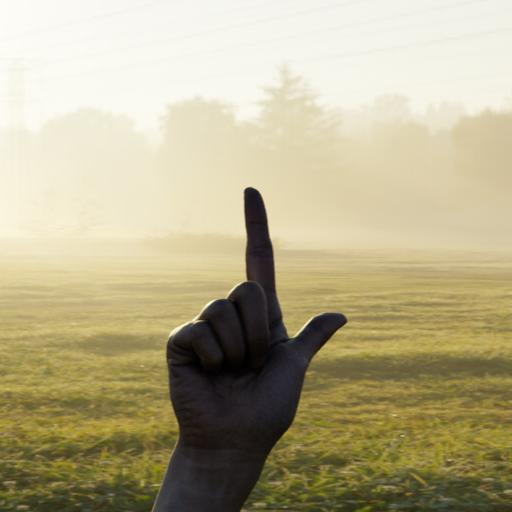L: (117, 157, 403, 512)
